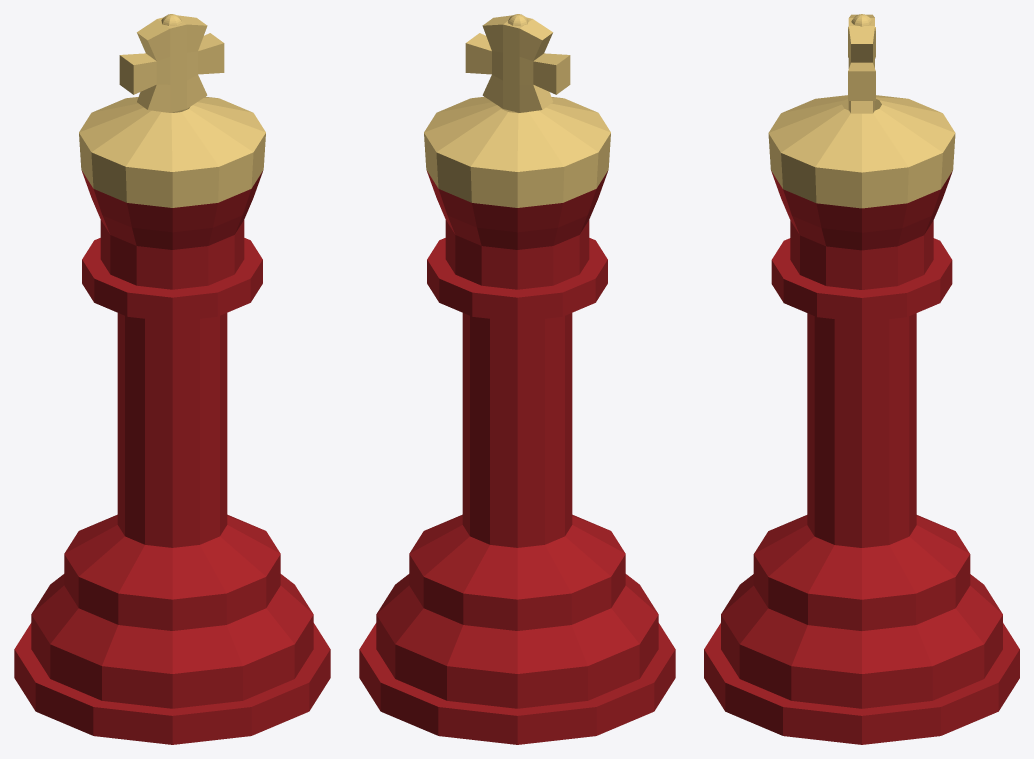
The model's file is lowpoly_k_b.glb.
The picture shows the model from 3 angles, left to right: view 1: azimuth 30°, elevation 25°; view 2: azimuth 150°, elevation 25°; view 3: azimuth 270°, elevation 25°; orthographic projection.
Parts seen in each view (by area): view 1: x; view 2: x; view 3: x.
Part boxes in pixels (x1,y1,x2,y2): x: (14, 14, 330, 744); x: (359, 14, 675, 744); x: (704, 14, 1019, 744).
Bounding box in the file's own units: 0.3886 × 0.9 × 0.3886.
